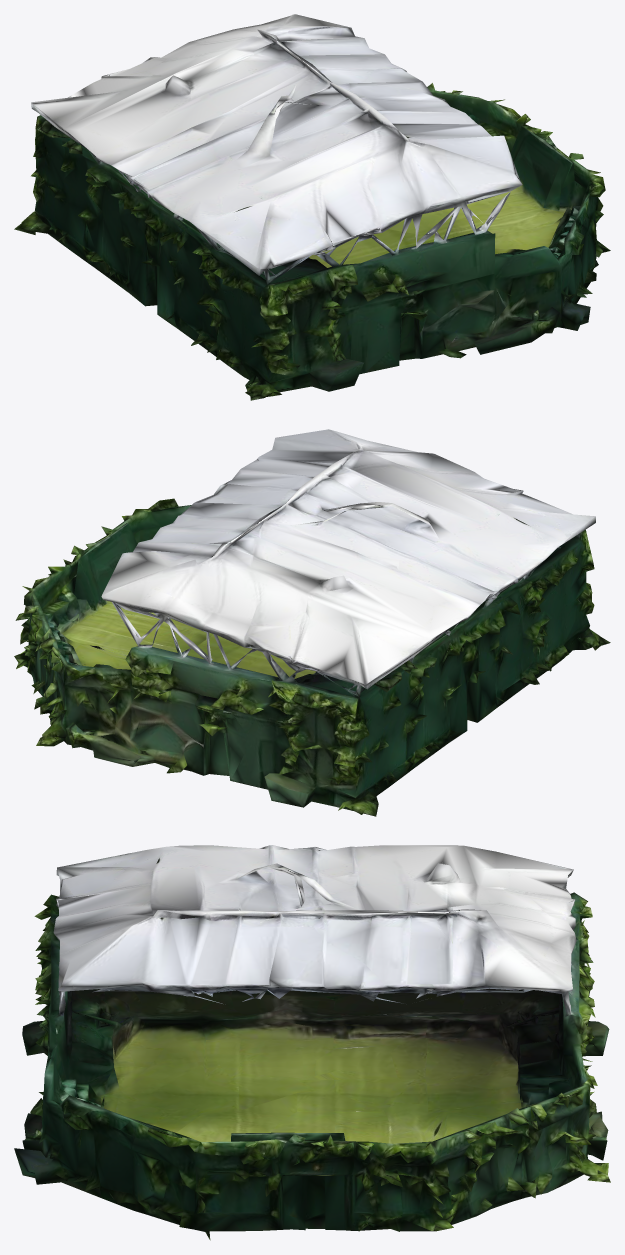
File: stadion_wim.glb
The picture shows the model from 3 angles, top to bottom: view 1: azimuth 30°, elevation 25°; view 2: azimuth 150°, elevation 25°; view 3: azimuth 270°, elevation 25°; orthographic projection. The views are drawn at different scales.
Parts seen in each view (by area): view 1: tripo_node_40678fcc-0641-4e0a-a106-5e8c1f65222e; view 2: tripo_node_40678fcc-0641-4e0a-a106-5e8c1f65222e; view 3: tripo_node_40678fcc-0641-4e0a-a106-5e8c1f65222e.
Part boxes in pixels (<box>): tripo_node_40678fcc-0641-4e0a-a106-5e8c1f65222e: <box>14,14,610,400</box>; tripo_node_40678fcc-0641-4e0a-a106-5e8c1f65222e: <box>14,429,610,816</box>; tripo_node_40678fcc-0641-4e0a-a106-5e8c1f65222e: <box>14,845,610,1240</box>.
Bounding box in the file's own units: 0.9412 × 0.3886 × 0.9959.
Materials: 1 (1 with a texture image).
